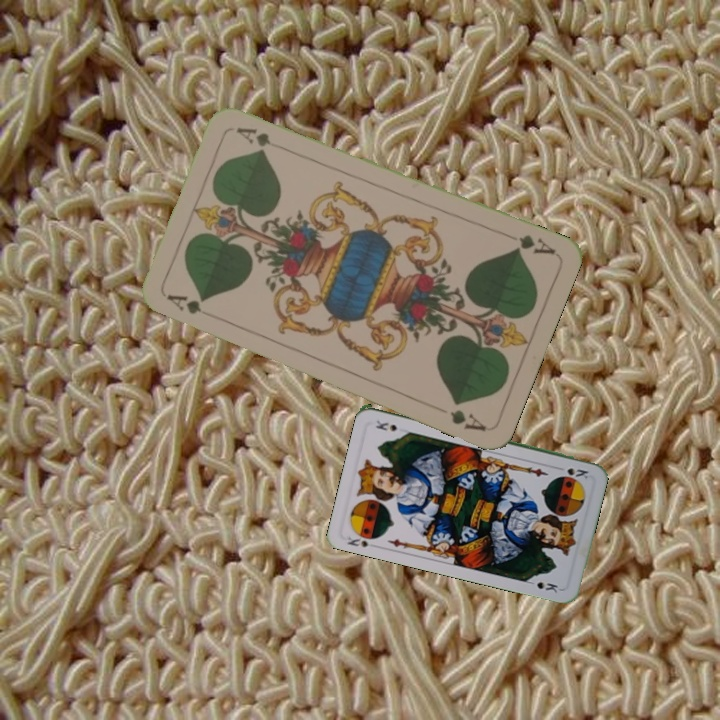GA: (511, 230, 558, 258), (163, 290, 204, 317)
SK: (343, 533, 380, 550), (563, 464, 591, 481)
